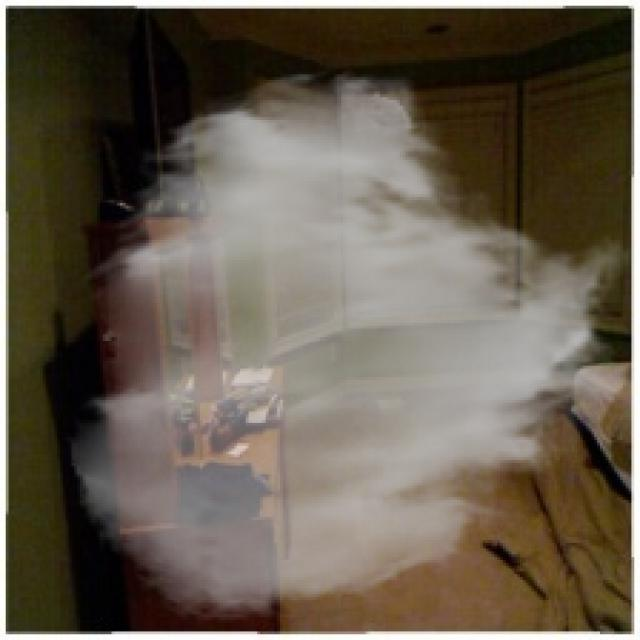smoke: (66, 65, 634, 626)
